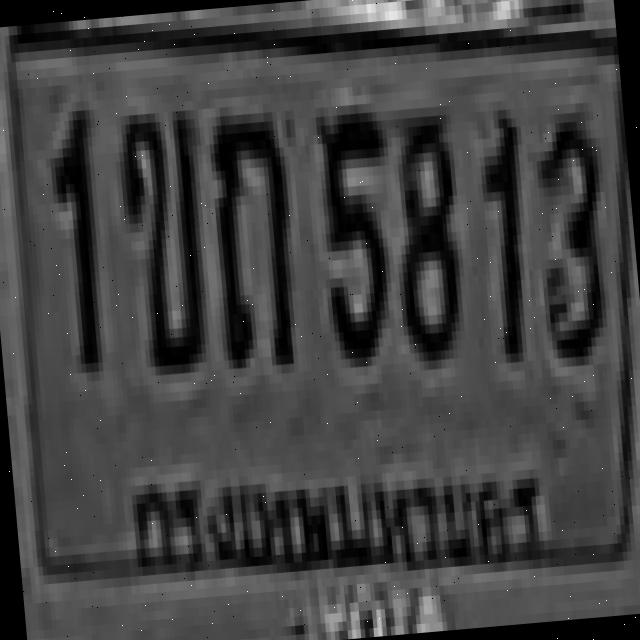1: (45, 101, 107, 365), (472, 100, 534, 354)
11KhorKhai: (109, 100, 218, 390)
3: (527, 102, 616, 374)
31ThorThung: (202, 102, 303, 380)
5: (310, 102, 399, 372)
8: (384, 105, 472, 371)
Bangkok: (124, 418, 554, 616)
